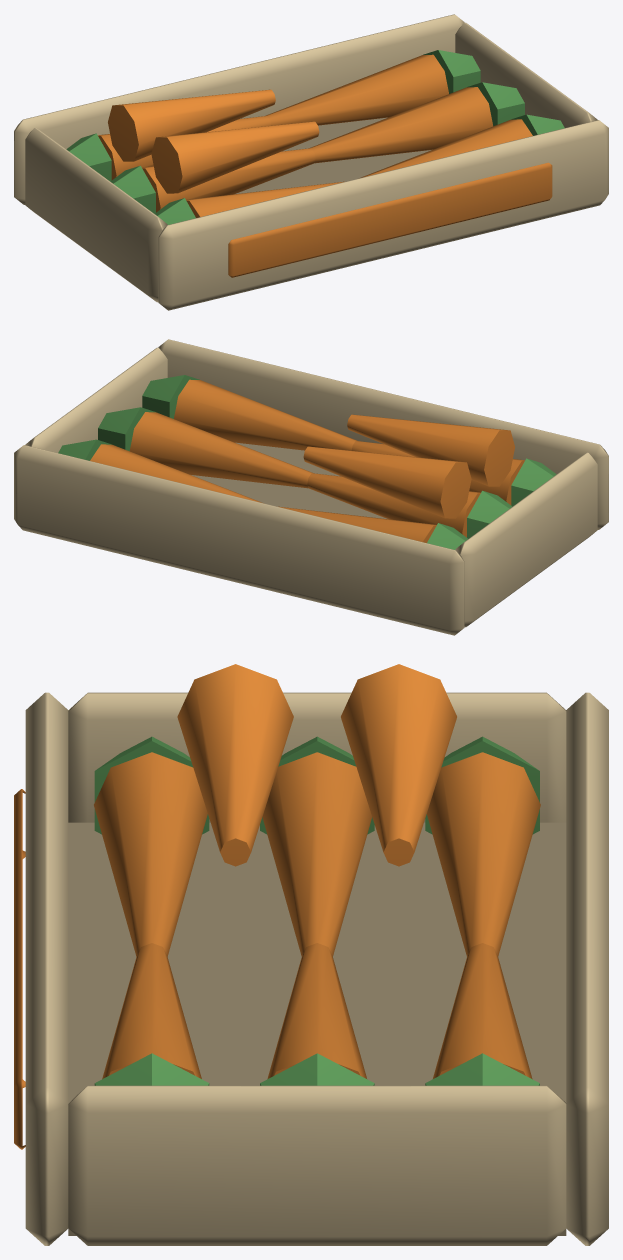
File: ProduceTray_Carrots_01.glb
3 renders of one model, top to bottom at view 1: azimuth 30°, elevation 25°; view 2: azimuth 150°, elevation 25°; view 3: azimuth 270°, elevation 25°, orthographic. The views are drawn at different scales.
Parts seen in each view (by area): view 1: SM_ProduceTray_Carrots_01; view 2: SM_ProduceTray_Carrots_01; view 3: SM_ProduceTray_Carrots_01.
Part boxes in pixels (bbox=[...]): SM_ProduceTray_Carrots_01: bbox=[14, 14, 608, 310]; SM_ProduceTray_Carrots_01: bbox=[14, 339, 608, 635]; SM_ProduceTray_Carrots_01: bbox=[14, 664, 608, 1245].
Bounding box in the file's own units: 0.5 × 0.132 × 0.306.
Materials: 1 (1 with a texture image).
